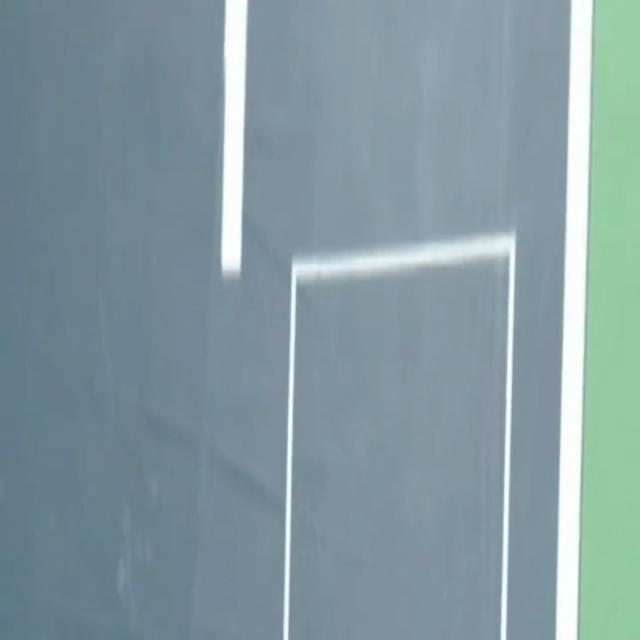center: (220, 0, 247, 279)
right: (556, 0, 592, 639)
